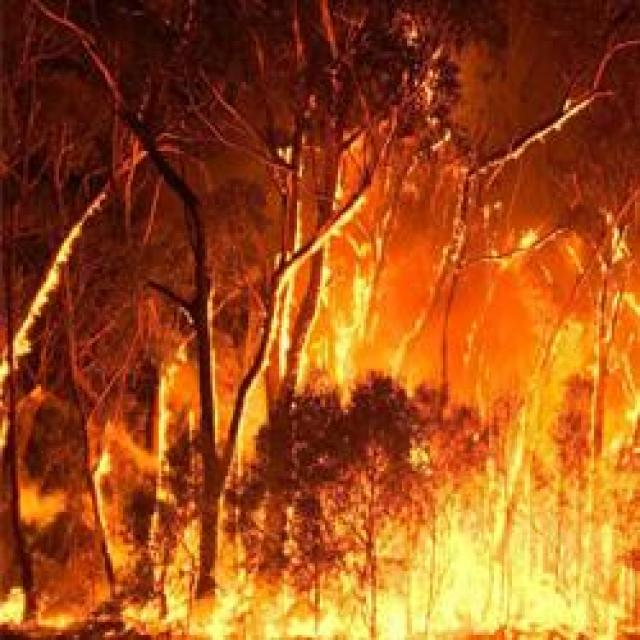fire: (427, 532, 640, 637), (186, 547, 420, 638), (513, 390, 640, 532), (6, 196, 98, 391), (5, 584, 72, 636)
